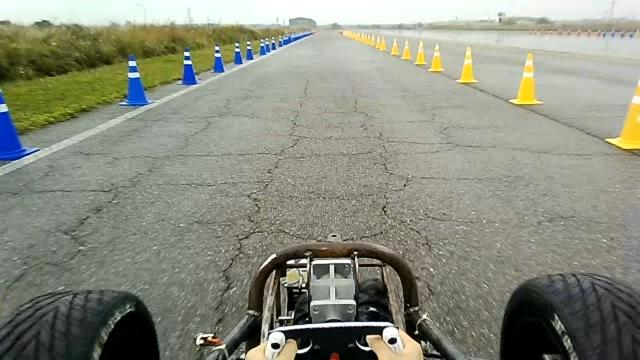blue cone: (0, 88, 40, 162), (118, 54, 154, 107), (177, 47, 199, 85), (211, 43, 225, 73), (233, 42, 243, 64), (245, 40, 254, 60), (263, 37, 271, 53), (258, 39, 266, 55)
yellow cone: (604, 80, 640, 151), (508, 52, 544, 105), (456, 45, 478, 84), (428, 42, 444, 72), (414, 39, 427, 65), (401, 39, 412, 60), (390, 37, 399, 56), (378, 36, 387, 52)
